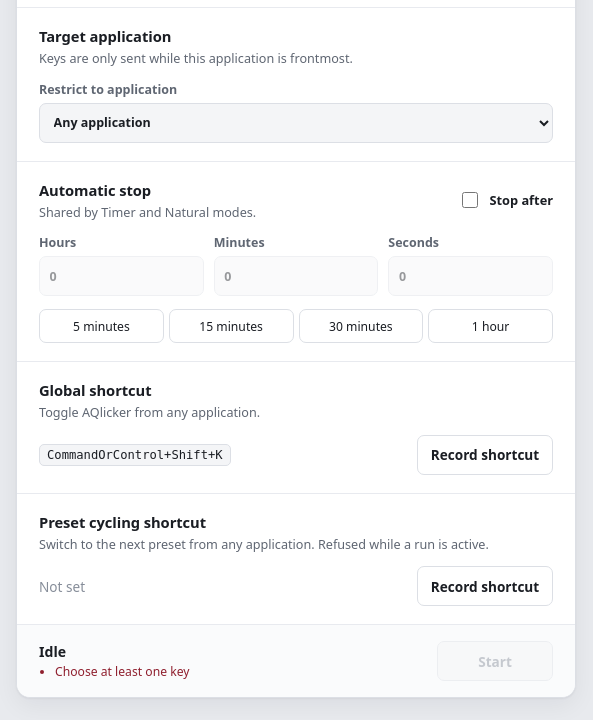
Test: App › offers a separate recorder for the preset-cycling shortcut
(page scrolled)
Expected: the heading "Preset cycling shortcut" is shown, [39,512,206,532]
Expected: the button with aria-label "Record global shortcut" is shown, [417,435,553,475]
Click the button with aria-label "Record preset cycling shortcut" at point(485, 586), box [417,566,553,606]
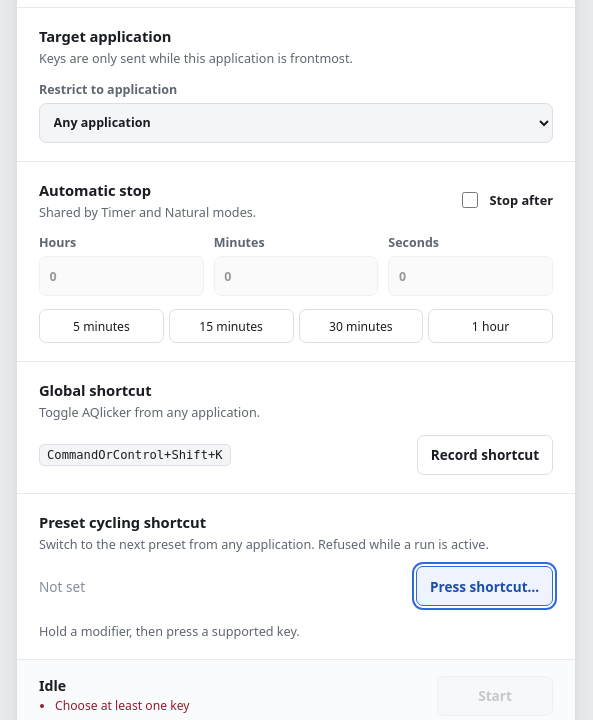
Press 1 in the button with aria-label "Press preset cycling shortcut", box [416,566,553,606]
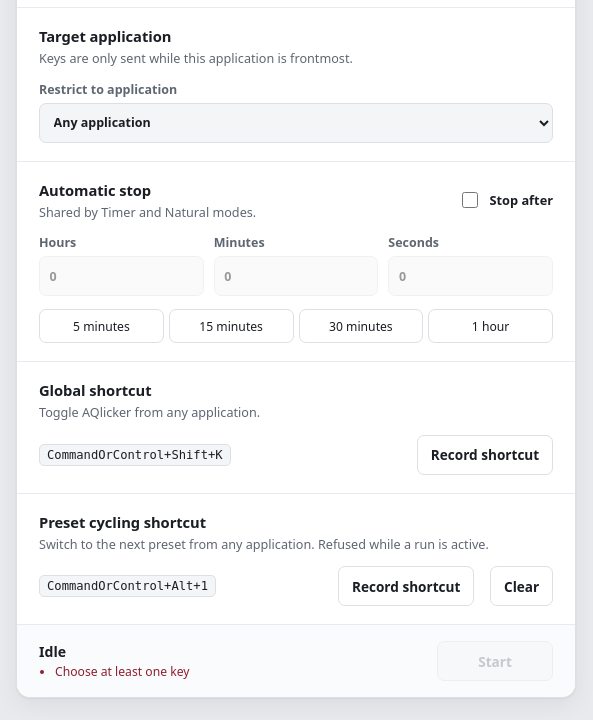
Now the text "CommandOrControl+Alt+1" is shown, box [39,575,216,597]
